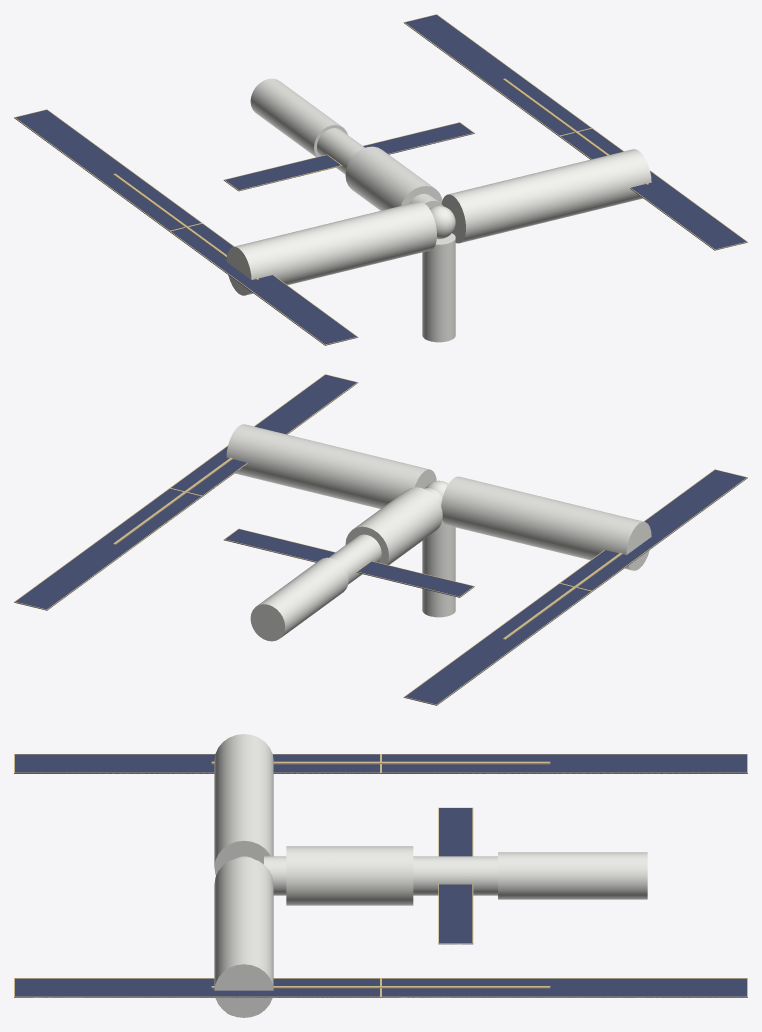
The model's file is tiangong.glb.
The picture shows the model from 3 angles, top to bottom: view 1: azimuth 30°, elevation 25°; view 2: azimuth 150°, elevation 25°; view 3: azimuth 270°, elevation 25°; orthographic projection. The views are drawn at different scales.
Parts seen in each view (by area): view 1: Tiangong schematic, metres; view 2: Tiangong schematic, metres; view 3: Tiangong schematic, metres.
Boxes of the visible parts, bbox=[...] form: Tiangong schematic, metres: bbox=[14, 14, 747, 345]; Tiangong schematic, metres: bbox=[14, 374, 747, 705]; Tiangong schematic, metres: bbox=[14, 734, 747, 1017].
Bounding box in the file's own units: 0.7846 × 0.2404 × 1.
